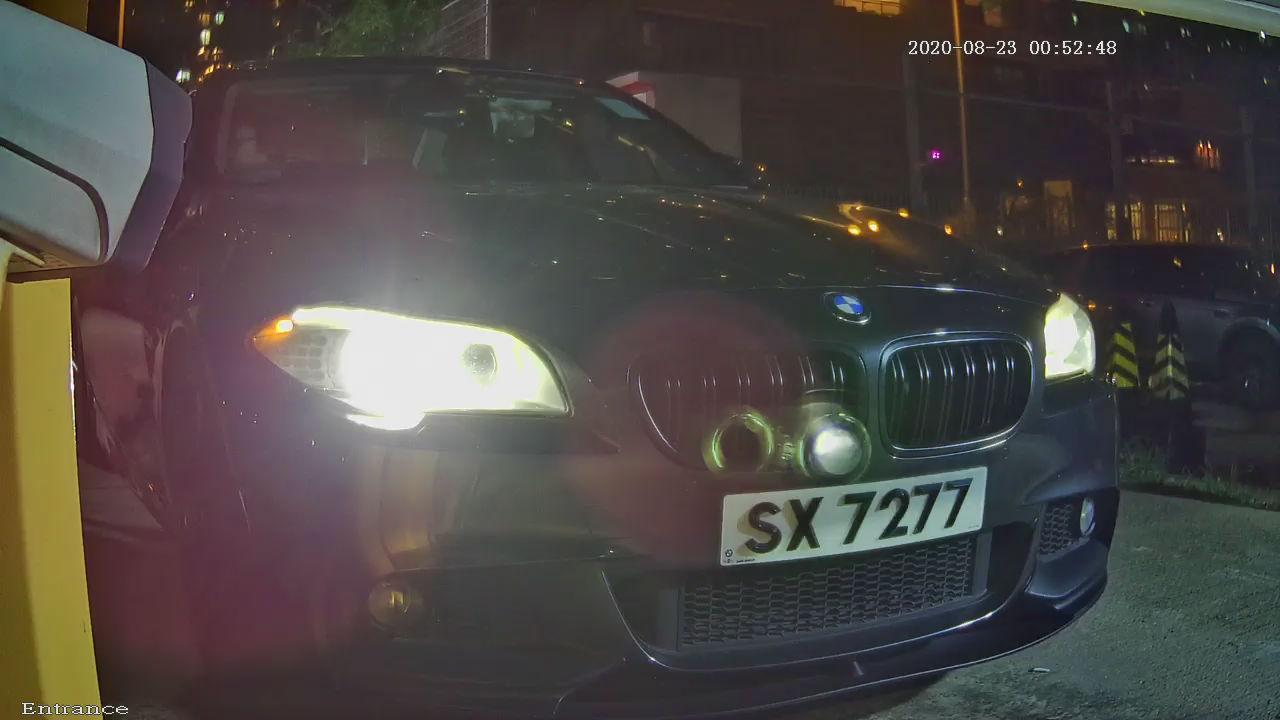Car: (35, 13, 1223, 704)
License Plate: (703, 460, 1000, 573)
